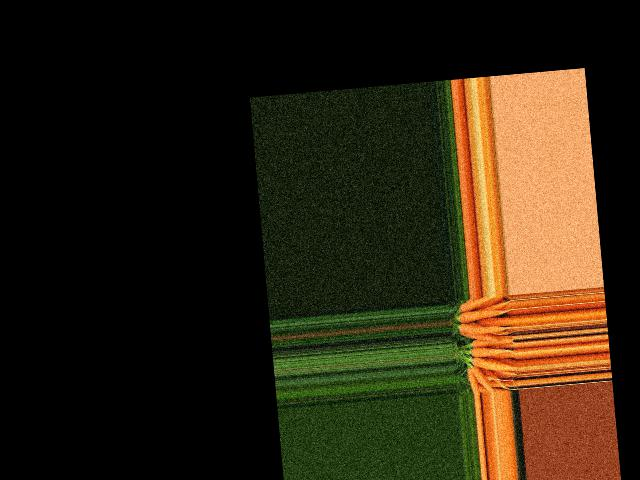carrot: (458, 305, 510, 324)
